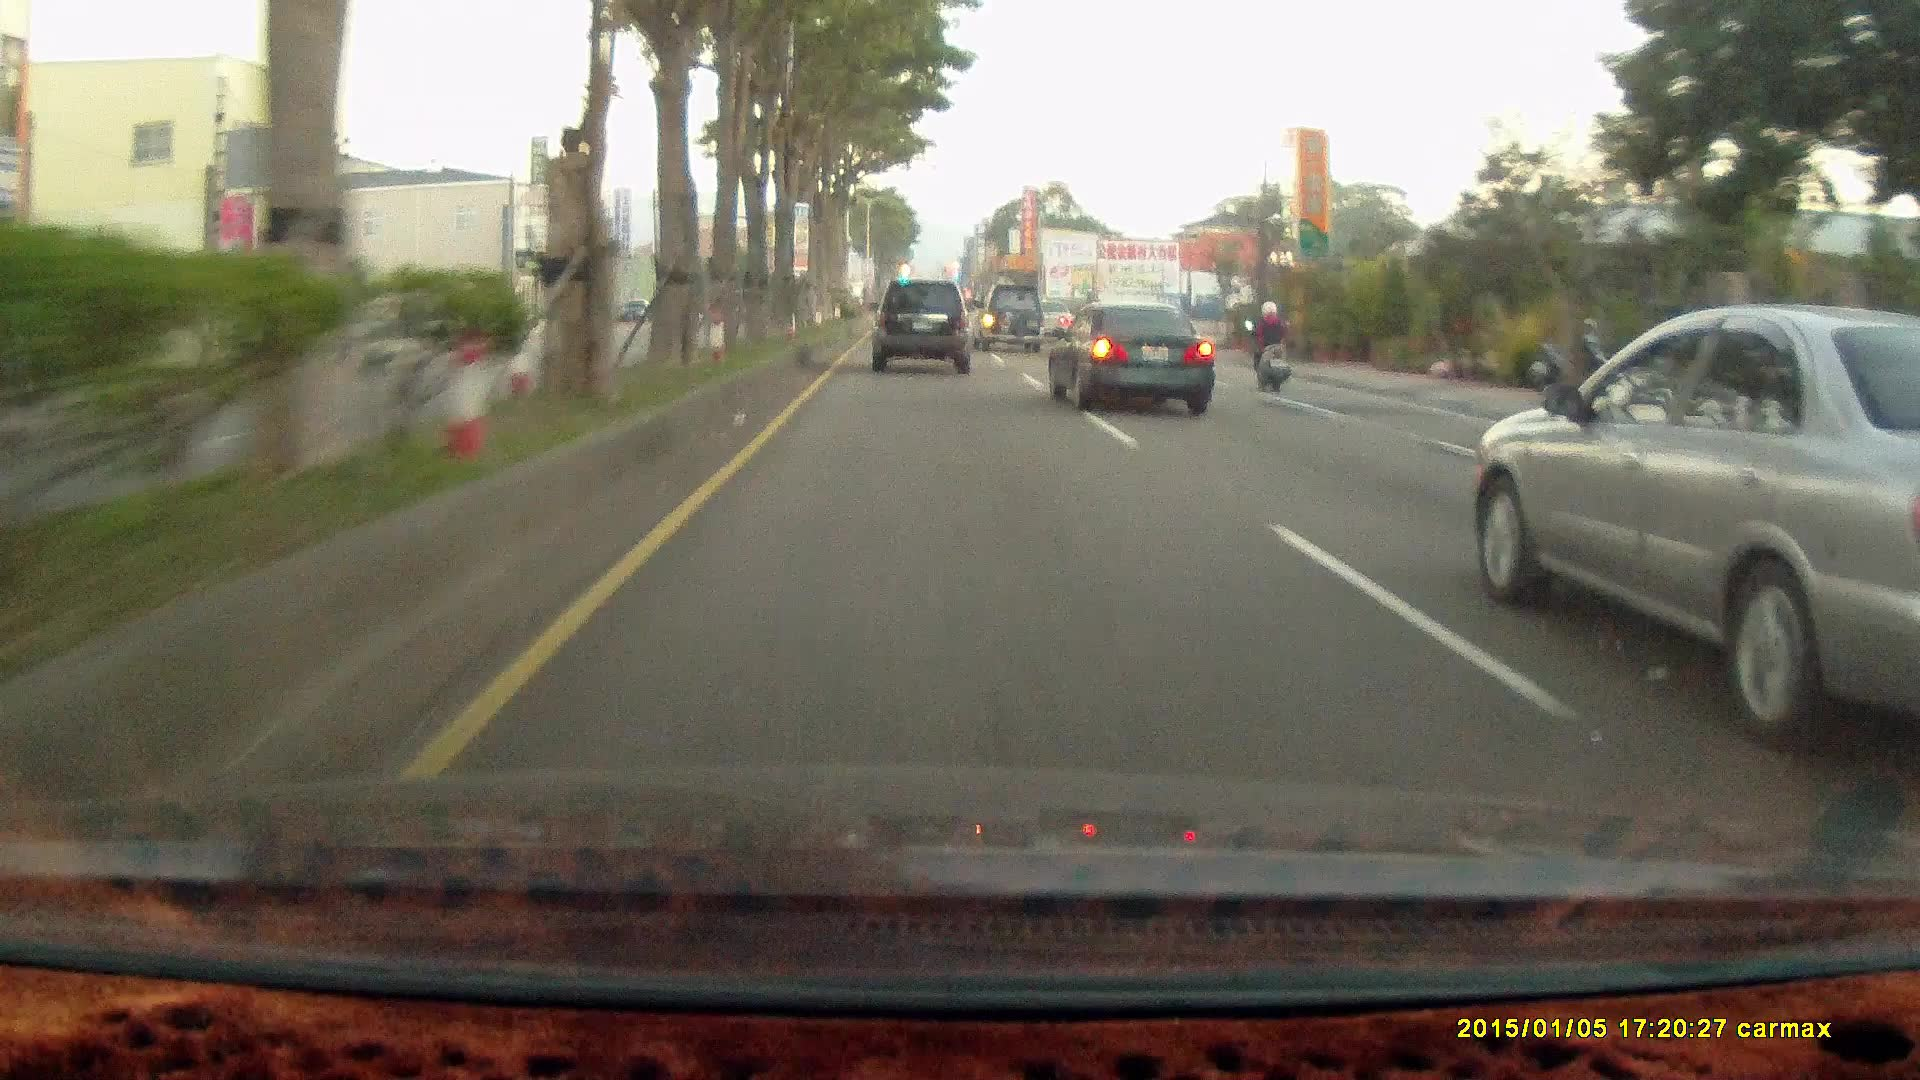rider: (1237, 290, 1303, 405), (1239, 298, 1293, 391)
vehicle: (1463, 296, 1915, 745), (1043, 301, 1219, 415), (1044, 301, 1214, 417), (870, 279, 975, 378), (867, 278, 969, 373), (974, 284, 1047, 356), (969, 280, 1040, 352)
